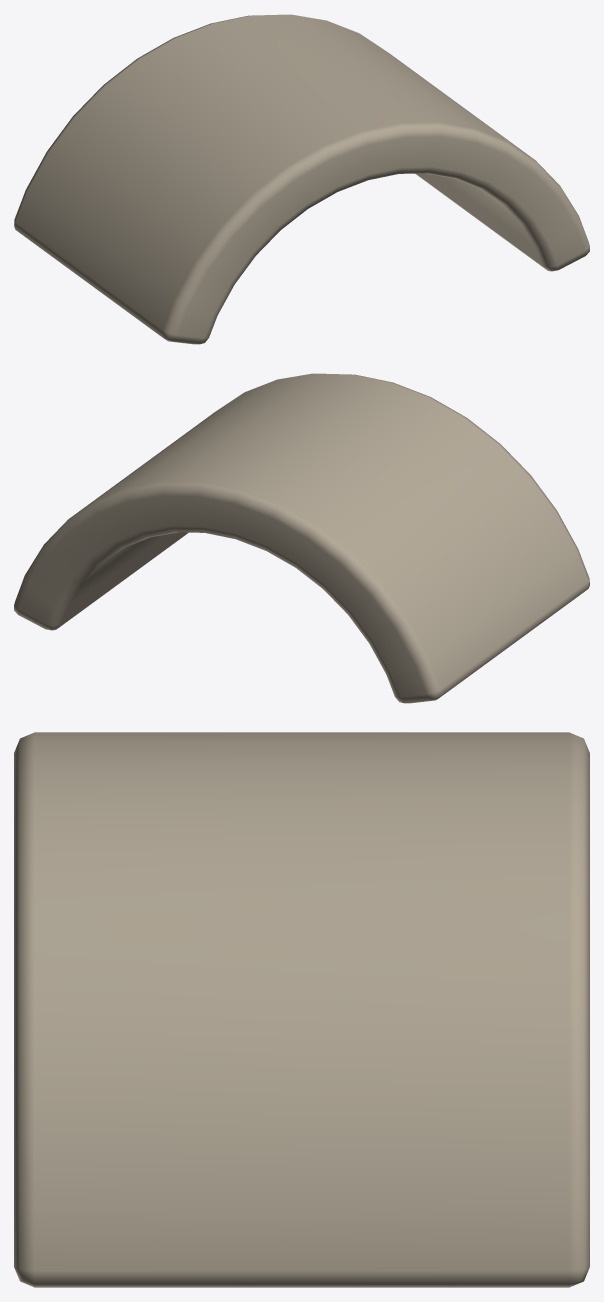
The model's file is pipe_fragment.glb.
The picture shows the model from 3 angles, top to bottom: view 1: azimuth 30°, elevation 25°; view 2: azimuth 150°, elevation 25°; view 3: azimuth 270°, elevation 25°; orthographic projection. The views are drawn at different scales.
Visible parts, largest first — view 1: Split pipe arc; view 2: Split pipe arc; view 3: Split pipe arc.
Part boxes in pixels (bbox=[...]): Split pipe arc: bbox=[14, 14, 589, 344]; Split pipe arc: bbox=[14, 373, 589, 703]; Split pipe arc: bbox=[14, 732, 589, 1287].
Size of the model in its own units: 1.43 by 0.5963 by 0.92.
